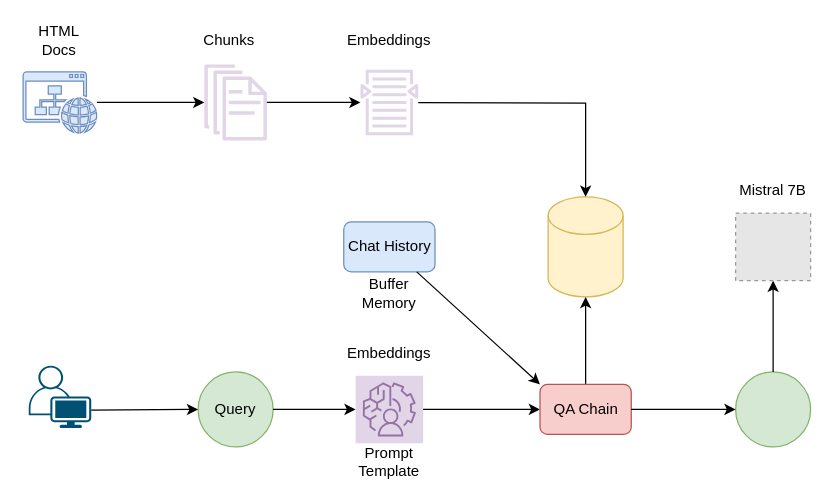
Some shapes in this 833 by 501 pixel diagram are drawn without their labels. Grey dashed boxes stand in for pictures. Here are the shapes that lost their labels. From the top down, the centre of each, then its label:
At (x=585, y=246): "Vector-store".
At (x=772, y=409): "Query + Context".
